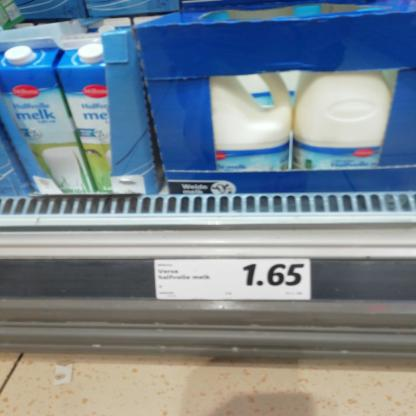prtg: (155, 259, 312, 301)
